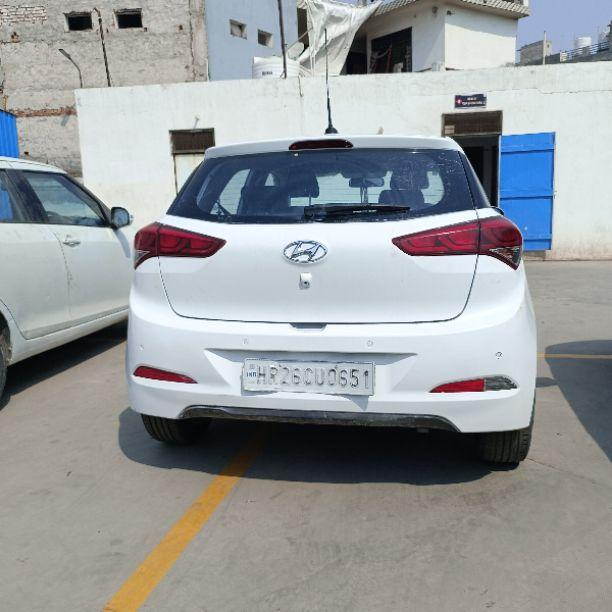license_plate: (240, 357, 375, 396)
